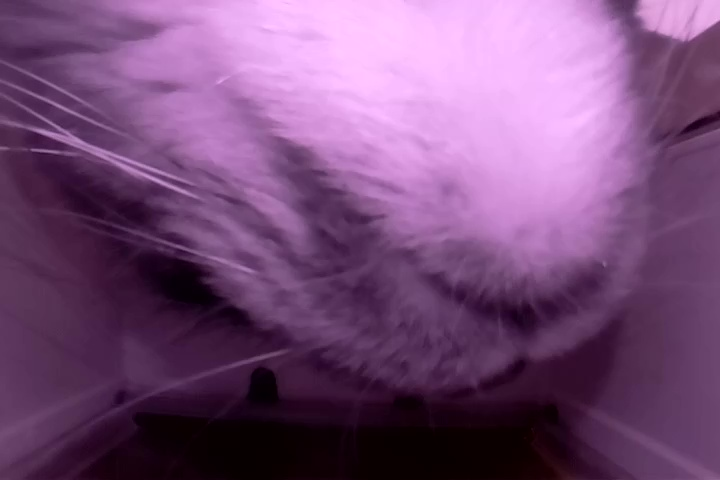Snout: (387, 223, 637, 402)
